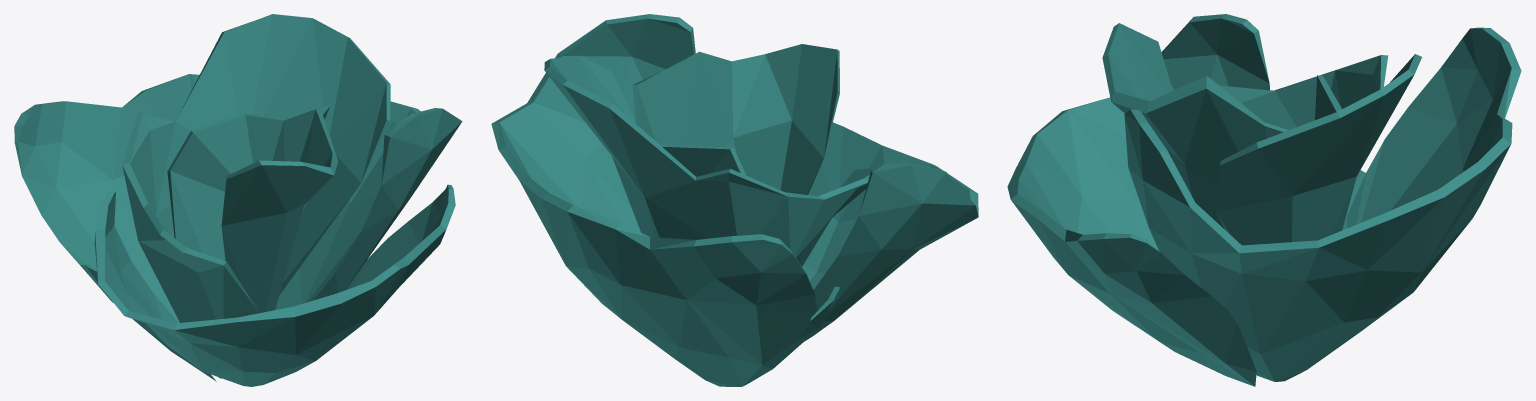
File: SM_Coral_Leaf_Dead_B.fbx
3 renders of one model, left to right at view 1: azimuth 30°, elevation 25°; view 2: azimuth 150°, elevation 25°; view 3: azimuth 270°, elevation 25°, orthographic. The views are drawn at different scales.
Parts seen in each view (by area): view 1: coral-leaf-dead-b; view 2: coral-leaf-dead-b; view 3: coral-leaf-dead-b.
Part boxes in pixels (x1=…): coral-leaf-dead-b: x1=14, y1=14, x2=462, y2=386; coral-leaf-dead-b: x1=491, y1=14, x2=978, y2=386; coral-leaf-dead-b: x1=1007, y1=14, x2=1521, y2=386.
Bounding box in the file's own units: 1.48 × 1.11 × 1.41.
